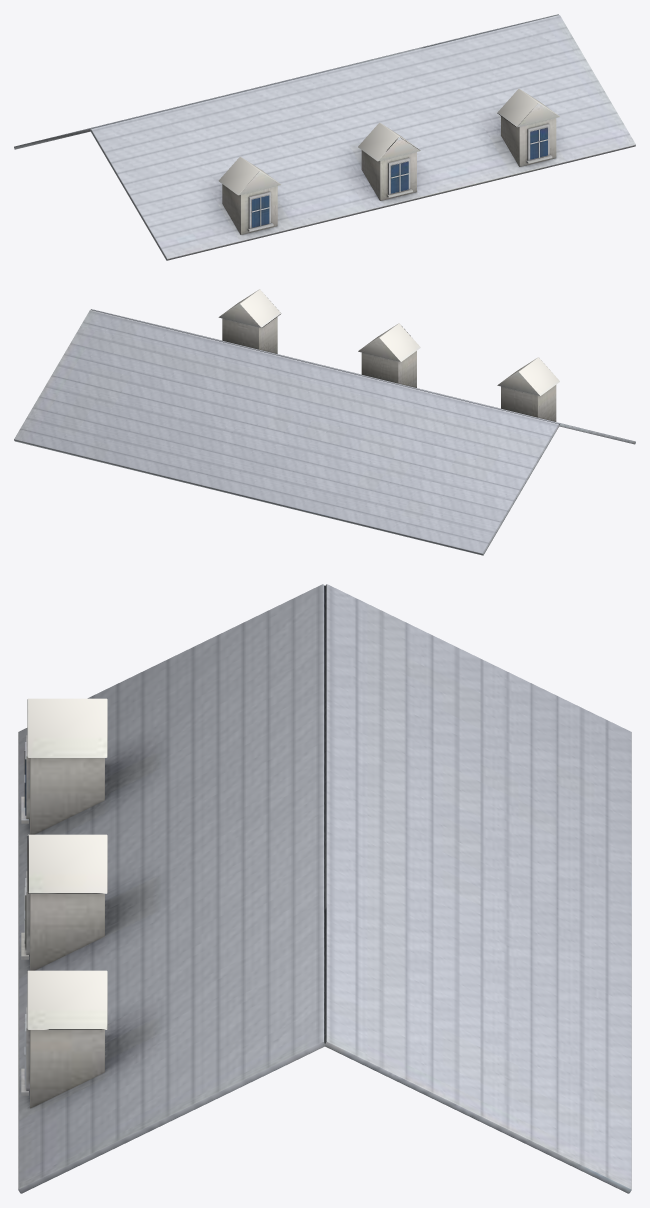
File: remate_mansarda.glb
3 renders of one model, top to bottom at view 1: azimuth 30°, elevation 25°; view 2: azimuth 150°, elevation 25°; view 3: azimuth 270°, elevation 25°, orthographic. The views are drawn at different scales.
Visible parts, largest first — view 1: remate_mansarda; view 2: remate_mansarda; view 3: remate_mansarda.
Part boxes in pixels (x1,y1,x2,y2): remate_mansarda: (14,14,635,260); remate_mansarda: (14,289,635,555); remate_mansarda: (18,584,631,1193).
Size of the model in its own units: 20.2 by 3.14 by 11.44.
1 material, 1 textured.
